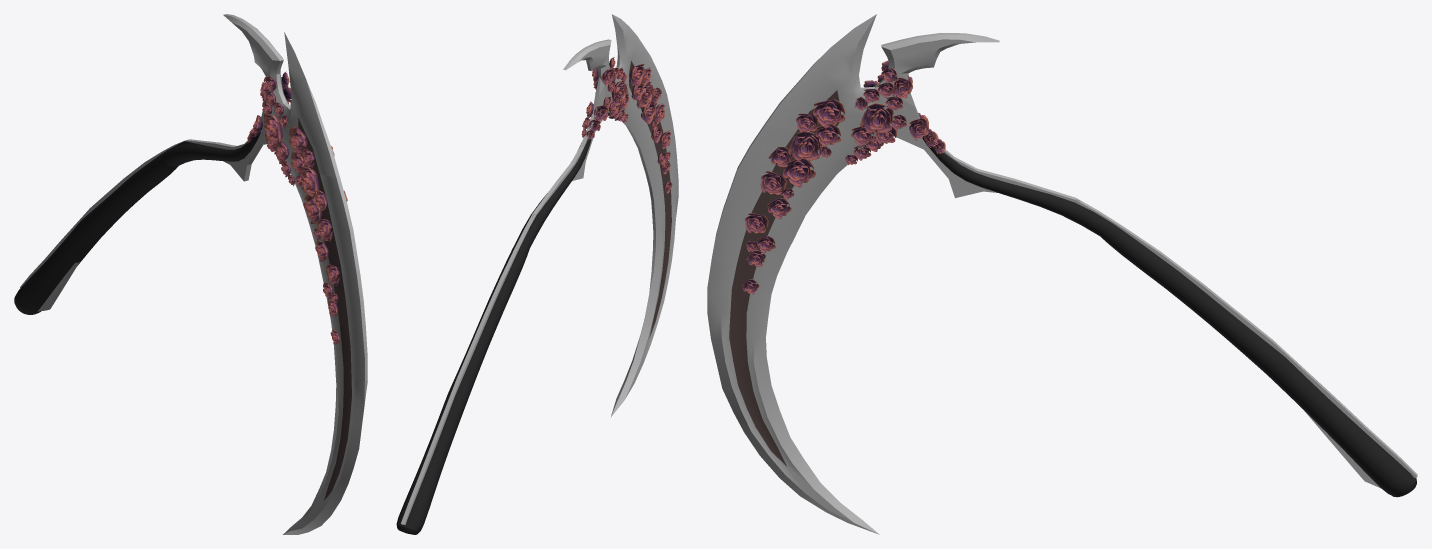
Rendered from scythe.glb.
The picture shows the model from 3 angles, left to right: view 1: azimuth 30°, elevation 25°; view 2: azimuth 150°, elevation 25°; view 3: azimuth 270°, elevation 25°; orthographic projection. The views are drawn at different scales.
Parts seen in each view (by area): view 1: scythe, Cylinder, Plane, flower2.043, flower2.062; view 2: scythe, Cylinder, Plane; view 3: scythe, Cylinder, Plane.
Boxes of the visible parts, box(x1,y1,x2,y2) form: scythe: box(223, 14, 367, 534); Cylinder: box(14, 132, 260, 314); Plane: box(20, 100, 271, 311); flower2.043: box(264, 113, 282, 145); flower2.062: box(300, 166, 319, 198); scythe: box(563, 14, 678, 417); Cylinder: box(396, 136, 591, 534); Plane: box(401, 77, 607, 524); scythe: box(707, 14, 999, 534); Cylinder: box(922, 136, 1416, 497); Plane: box(894, 93, 1417, 488).
Bounding box in the file's own units: 0.1625 × 2.46 × 3.04.
Materials: 5 (2 with a texture image).
